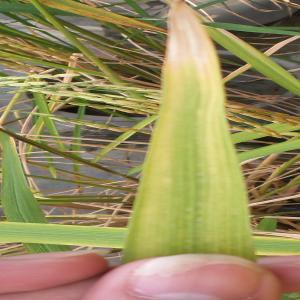2 BacterialBlight: (134, 1, 243, 255)
